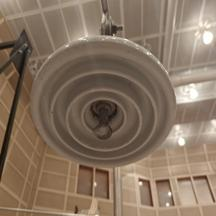insulator: (27, 28, 185, 173)
